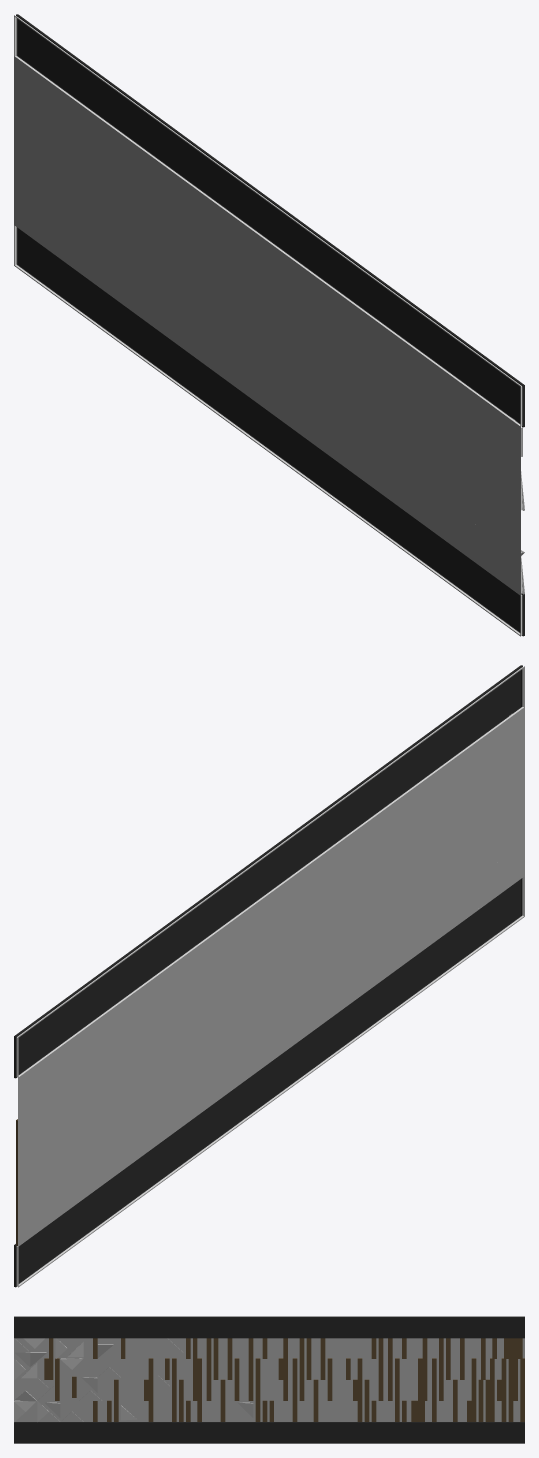
File: A_wall_01_.fbx
3 views of the same model, one above another, from view 1: azimuth 30°, elevation 25°; view 2: azimuth 150°, elevation 25°; view 3: azimuth 270°, elevation 25° (orthographic). The views are drawn at different scales.
Parts seen in each view (by area): view 1: A_wall_01_; view 2: A_wall_01_; view 3: A_wall_01_, A_wall_01_trim_07_, A_wall_01_trim_06_, A_wall_01_trim_03_, A_wall_01_trim_05_, A_wall_01_trim_02_, A_wall_01_trim_04_, A_wall_01_trim_01_.
Boxes of the visible parts, x1,y1,x2,y2 form: A_wall_01_: (14,14,524,636); A_wall_01_: (14,665,524,1287); A_wall_01_: (14,1316,524,1443); A_wall_01_trim_07_: (504,1338,522,1421); A_wall_01_trim_06_: (411,1338,427,1421); A_wall_01_trim_03_: (193,1338,201,1421); A_wall_01_trim_05_: (353,1358,362,1421); A_wall_01_trim_02_: (144,1358,153,1421); A_wall_01_trim_04_: (278,1338,287,1400); A_wall_01_trim_01_: (44,1338,53,1379).
Size of the model in its own units: 10 by 600 by 2200.
